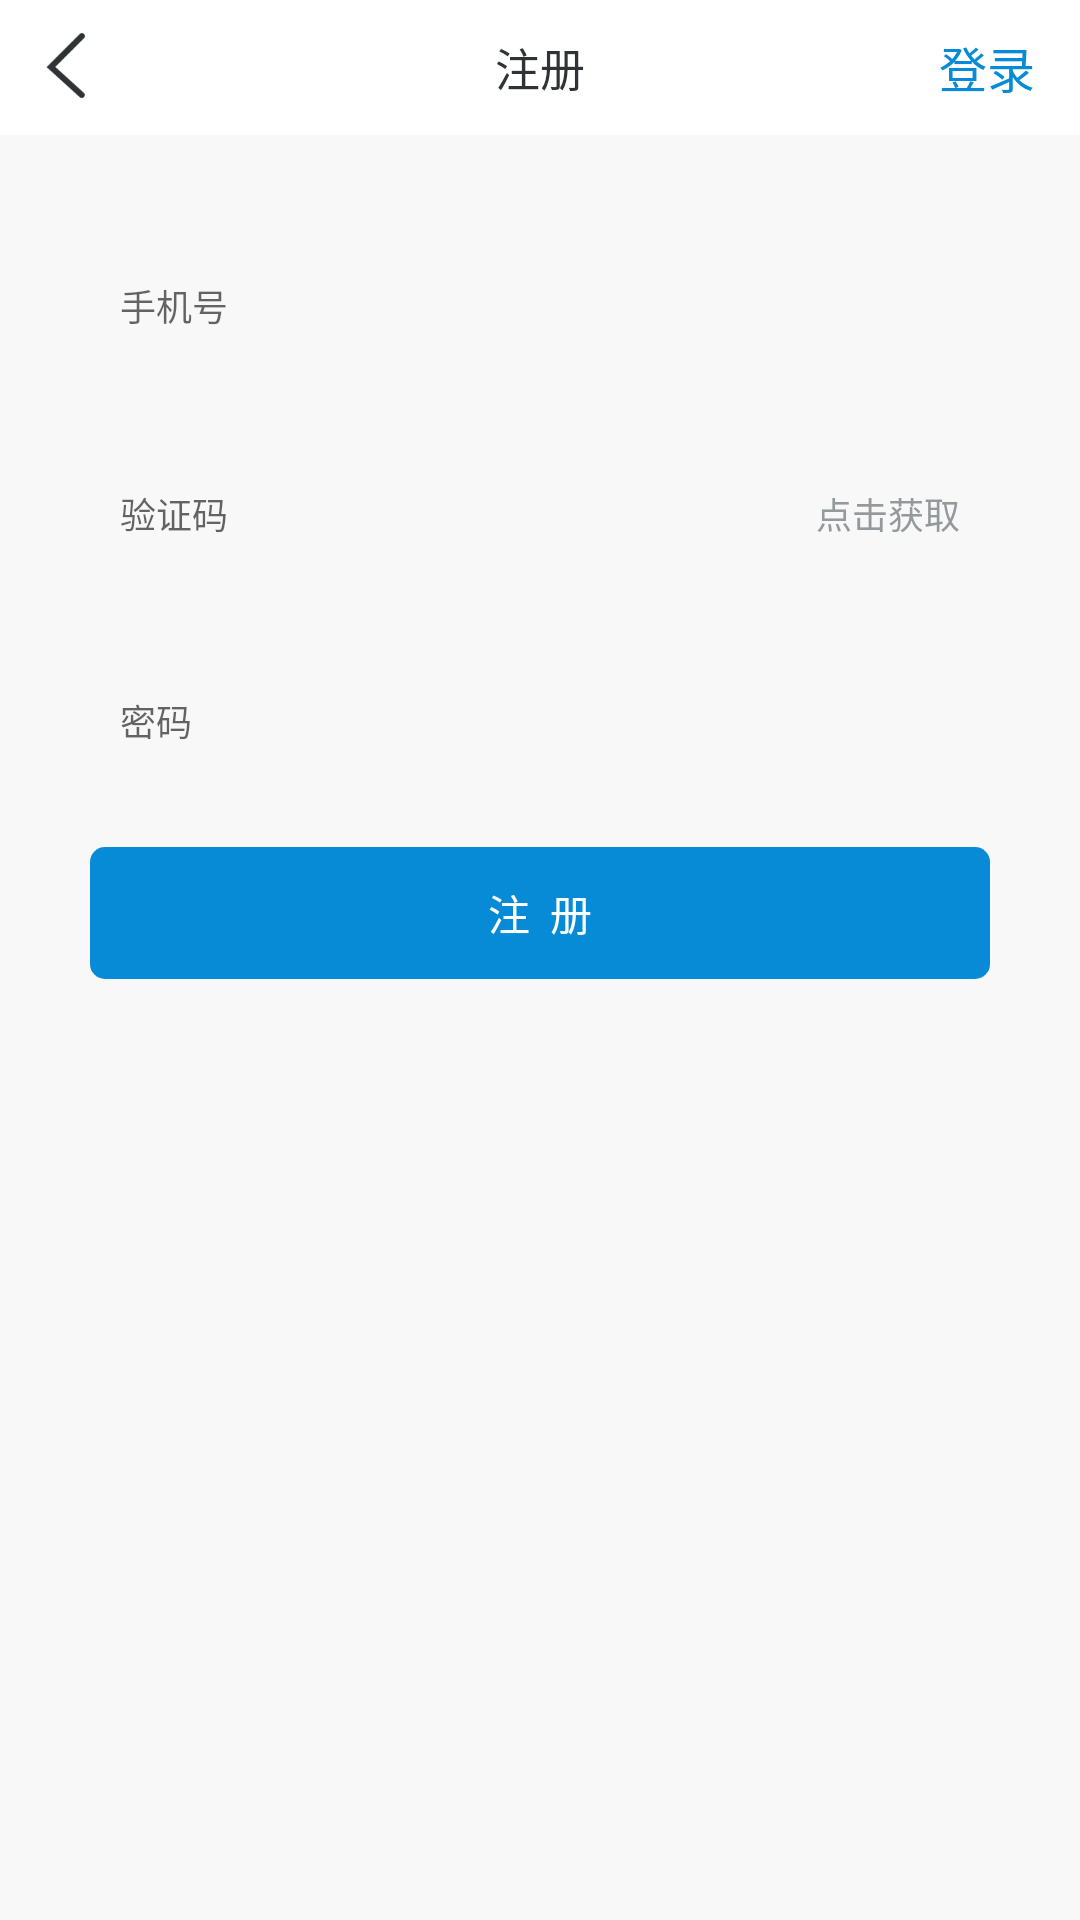

Point at icon controls on the screen. Image size 1080 × 1920, points as (x,y).
back: (65,65)
